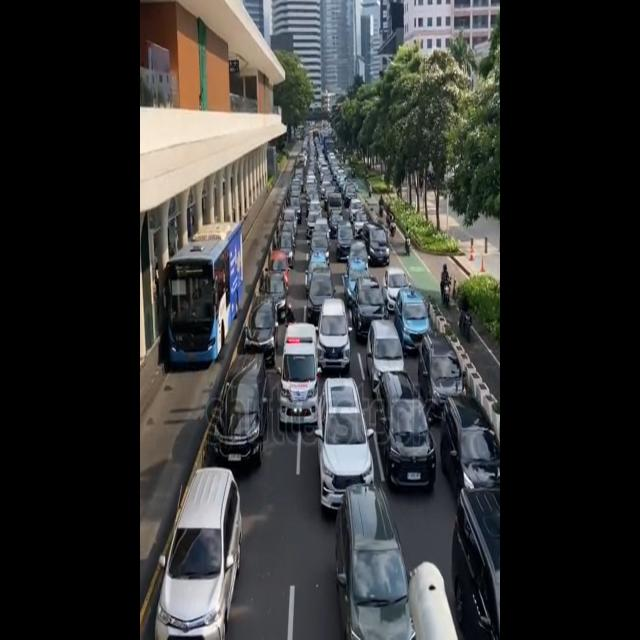Ambulance: (276, 320, 322, 427)
